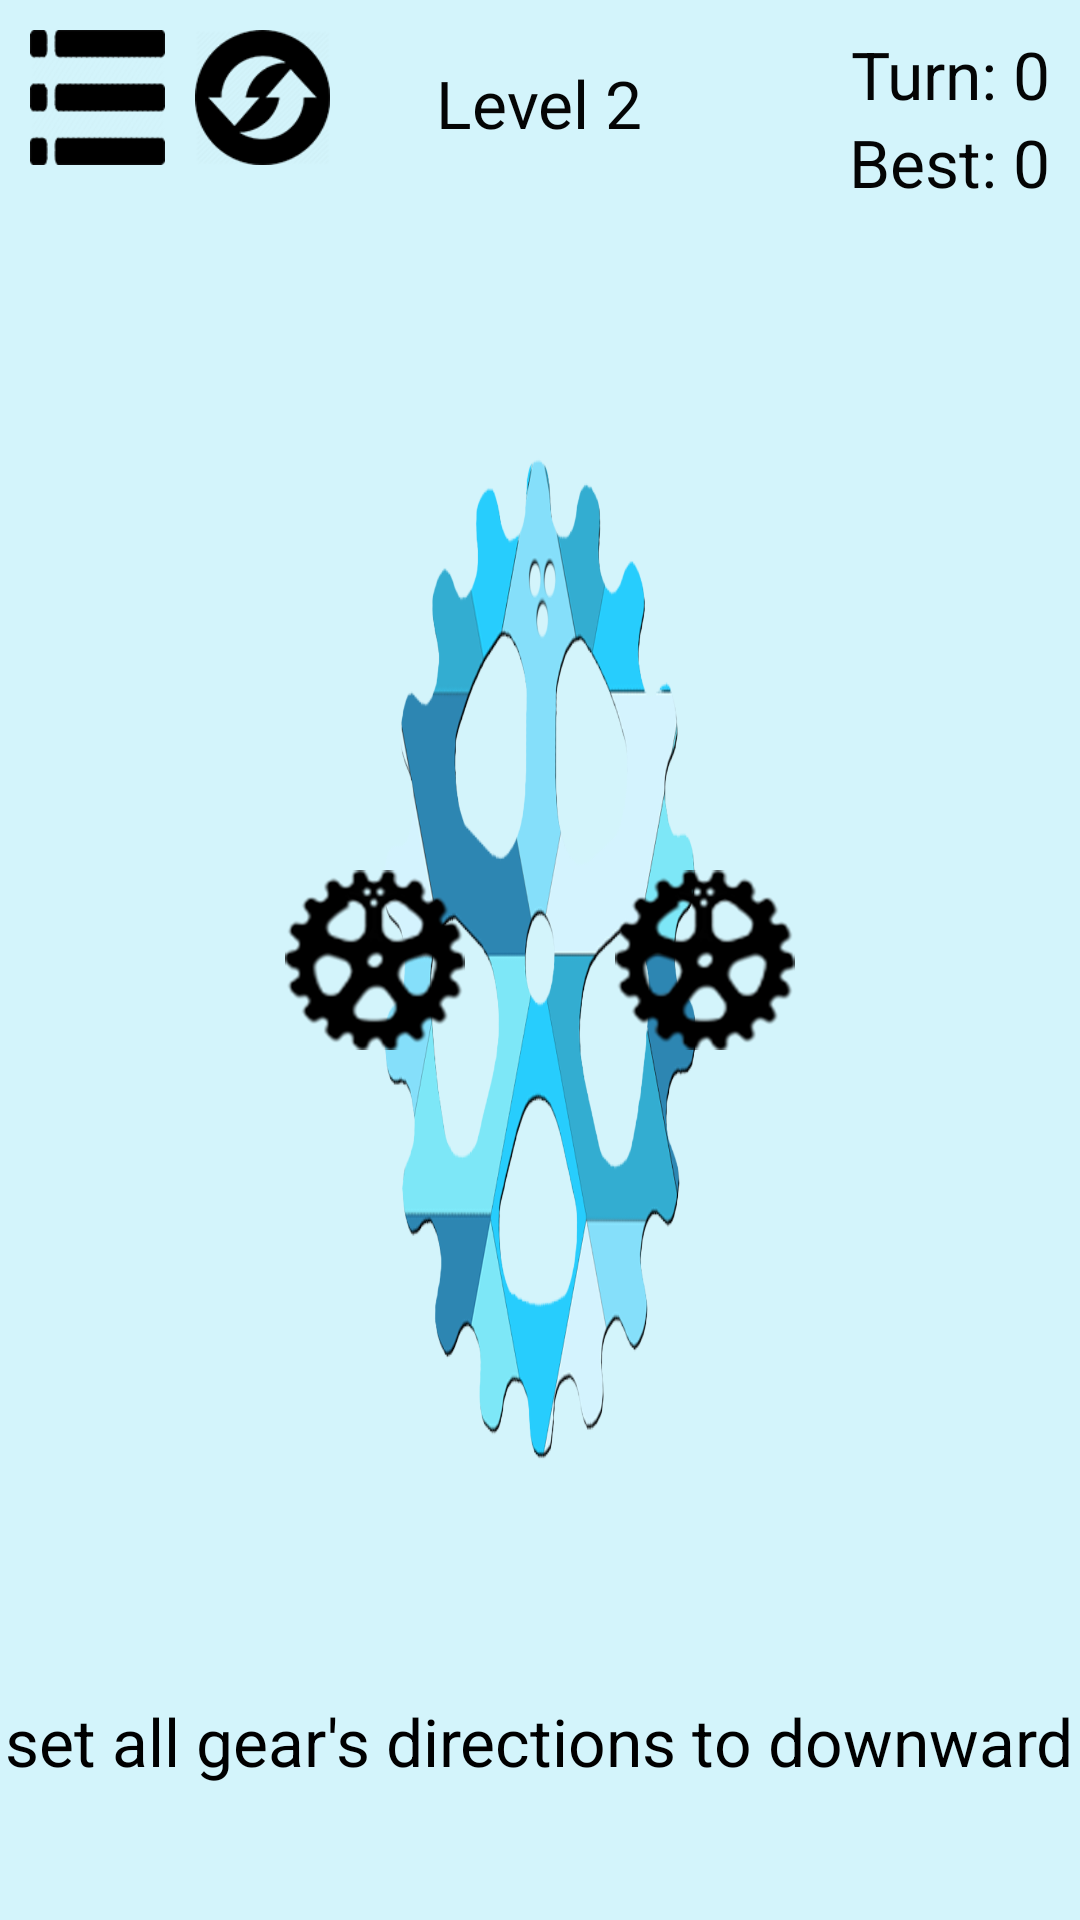

Locate icon controls on the screen. Image size 1080×1920, boxes as (x1, y1, x2, y2).
gearlvl: (285, 870, 465, 1050), (615, 870, 795, 1050)
menusymbol: (30, 30, 165, 165)
refresh: (195, 30, 330, 165)
